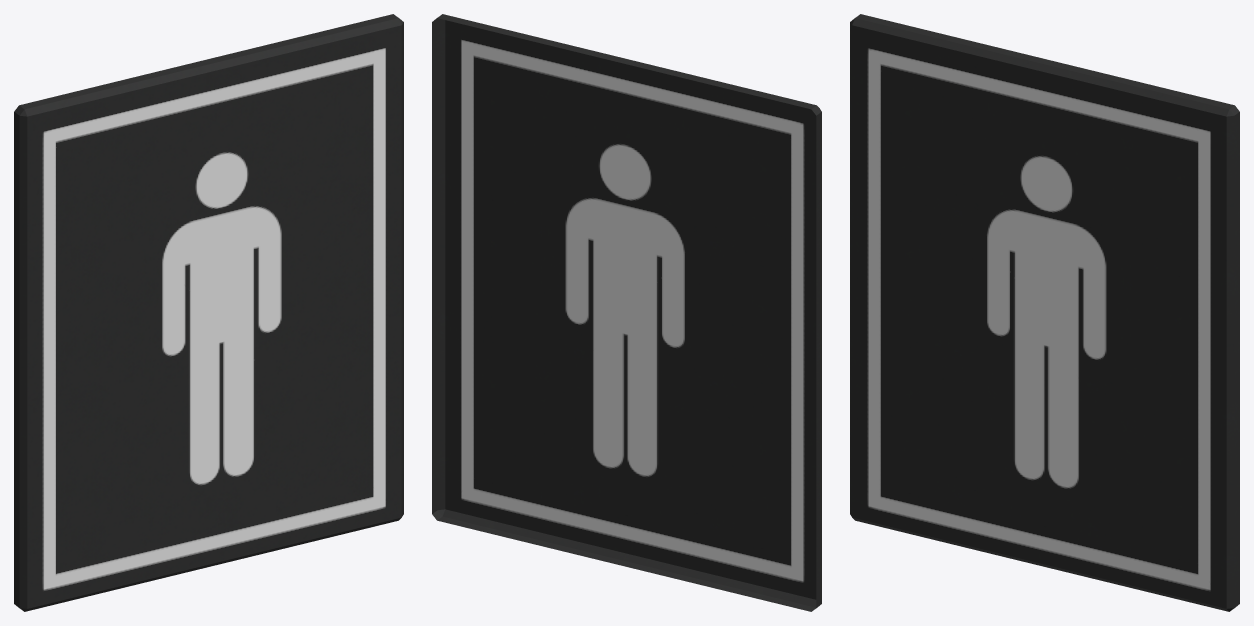
The model's file is WC1Male.FBX.
3 views of the same model, side by side, from view 1: azimuth 30°, elevation 25°; view 2: azimuth 150°, elevation 25°; view 3: azimuth 330°, elevation 25° (orthographic).
Visible parts, largest first — view 1: WC1Male; view 2: WC1Male; view 3: WC1Male.
Part boxes in pixels (box(x1,y1,x2,y2)): WC1Male: box(14, 14, 403, 611); WC1Male: box(432, 14, 821, 611); WC1Male: box(850, 14, 1239, 611).
Bounding box in the file's own units: 12 × 15 × 0.4533.
